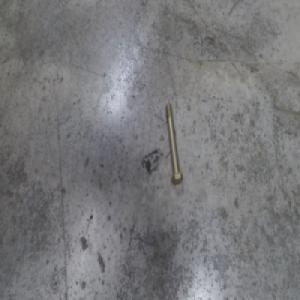Bolt: (166, 103, 184, 186)
